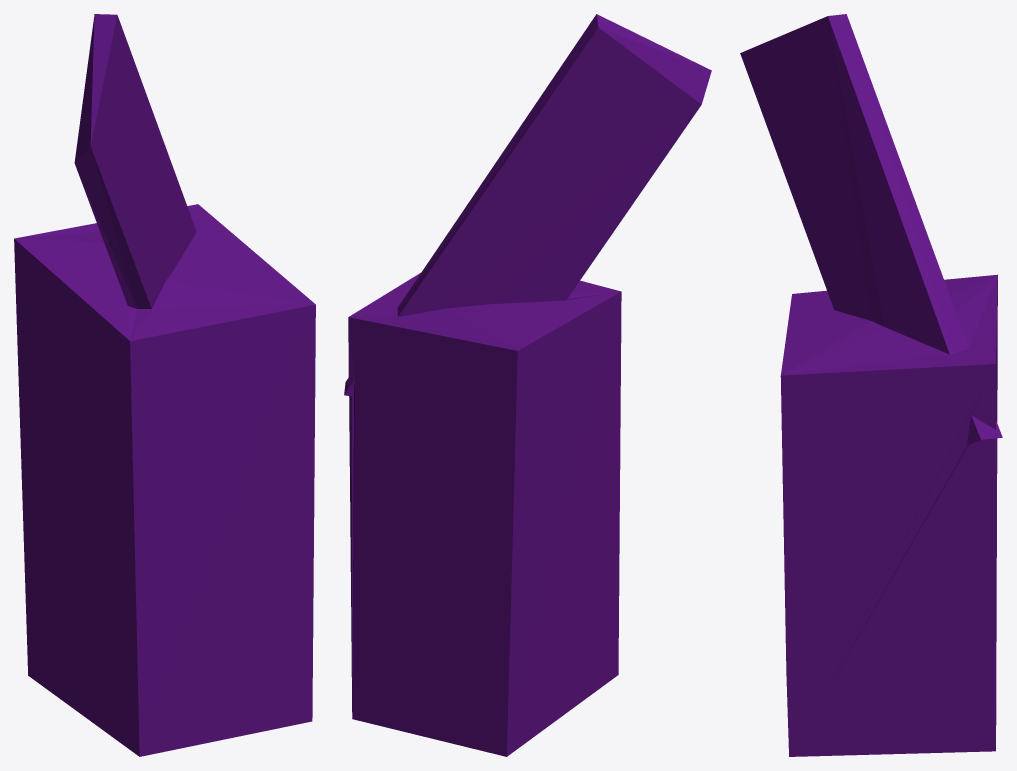
3 views of the same model, side by side, from view 1: azimuth 30°, elevation 25°; view 2: azimuth 150°, elevation 25°; view 3: azimuth 270°, elevation 25° (orthographic). The views are drawn at different scales.
Visible parts, largest first — view 1: 854_Cube.3450; view 2: 854_Cube.3450; view 3: 854_Cube.3450.
Boxes of the visible parts, left/top/right/bottom form: 854_Cube.3450: left=14, top=14, right=315, bottom=756; 854_Cube.3450: left=344, top=14, right=711, bottom=756; 854_Cube.3450: left=740, top=14, right=1002, bottom=756.
Size of the model in its own units: 7.82 by 20.9 by 7.49.
